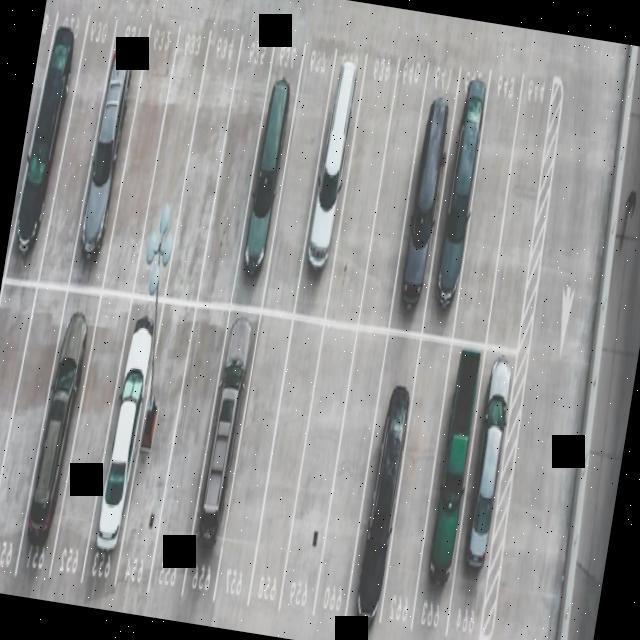car: (110, 299, 194, 604), (230, 14, 311, 318), (446, 348, 528, 640), (388, 59, 466, 353), (88, 296, 164, 594), (21, 281, 96, 579), (414, 335, 486, 625), (184, 323, 256, 609), (421, 68, 497, 338), (10, 2, 86, 269), (71, 17, 143, 290), (348, 342, 418, 614), (294, 48, 364, 302)
free: (213, 304, 299, 616), (276, 326, 355, 640), (248, 321, 326, 619), (377, 338, 456, 632), (148, 314, 226, 608), (164, 27, 241, 318), (312, 335, 390, 622), (50, 306, 128, 593), (486, 65, 564, 340), (327, 40, 405, 315), (452, 81, 528, 352), (41, 8, 115, 286), (0, 288, 65, 596), (264, 38, 338, 306), (201, 50, 271, 311), (363, 58, 431, 324), (136, 31, 202, 280), (108, 35, 172, 284), (0, 283, 33, 590)
